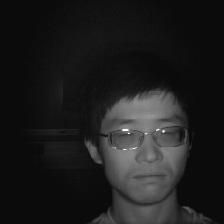normal: (81, 66, 199, 209)
